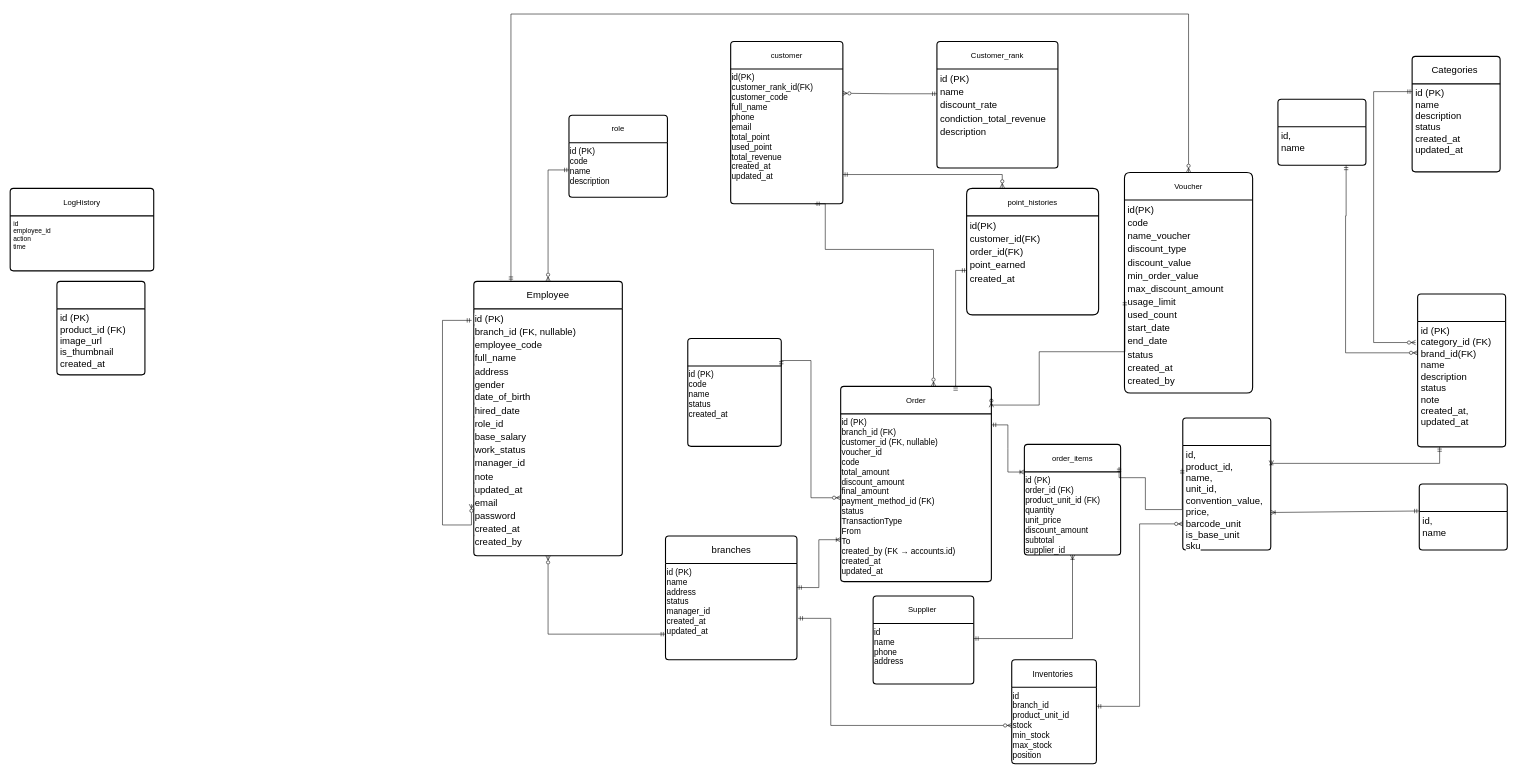
Some shapes in this 1517 by 774 pixel diagram are drawn without their labels. The box of each missing label's shape, as (x1, y1, x2, y2) in pixels:
Brand: (1277, 98, 1366, 166)
PaymentMethod: (687, 338, 782, 447)
Product: (1417, 293, 1506, 447)
ProductImage: (56, 280, 145, 375)
ProductUnit: (1182, 417, 1271, 550)
Unit: (1418, 483, 1508, 550)
